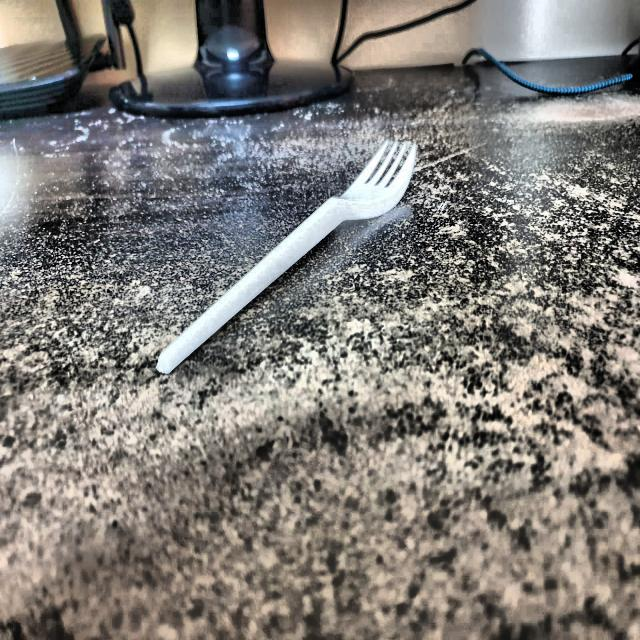plastic utensil: (161, 136, 417, 376)
